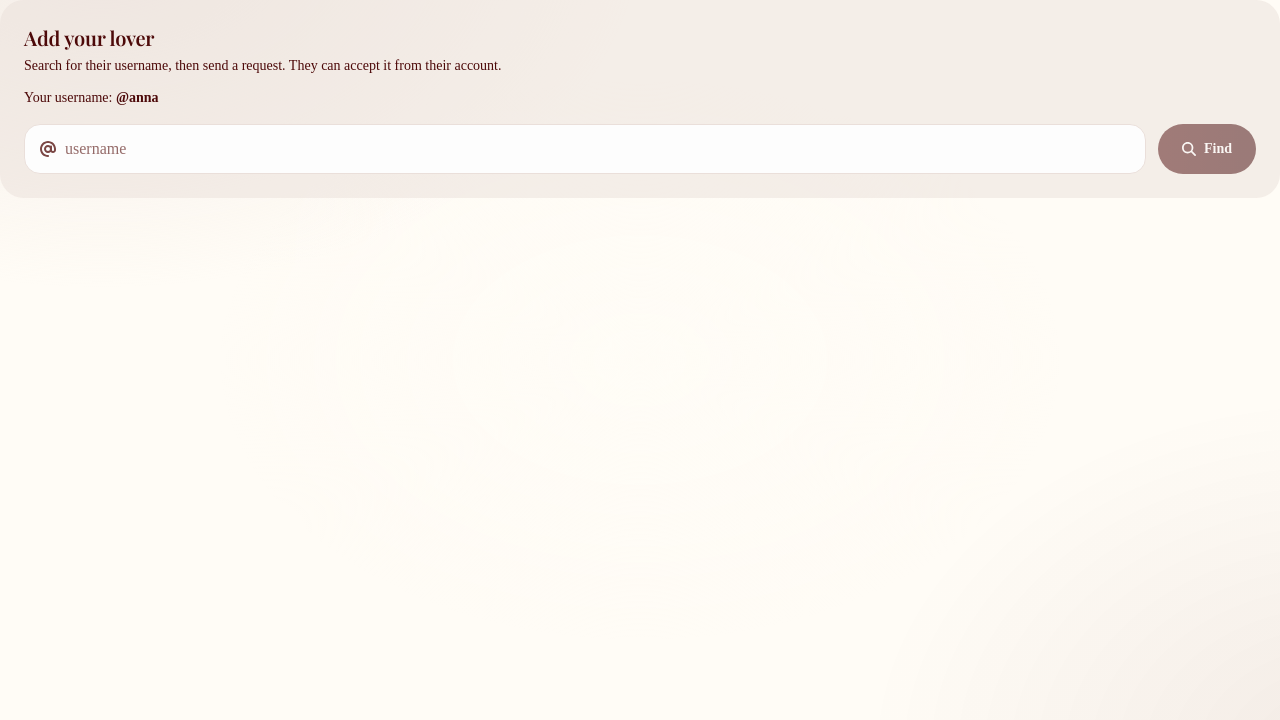
Test case: Add your lover › says so when no one has the username
Step 1. Type "nobody" into the field named "Their username" → (585, 149), box [24, 124, 1146, 174]
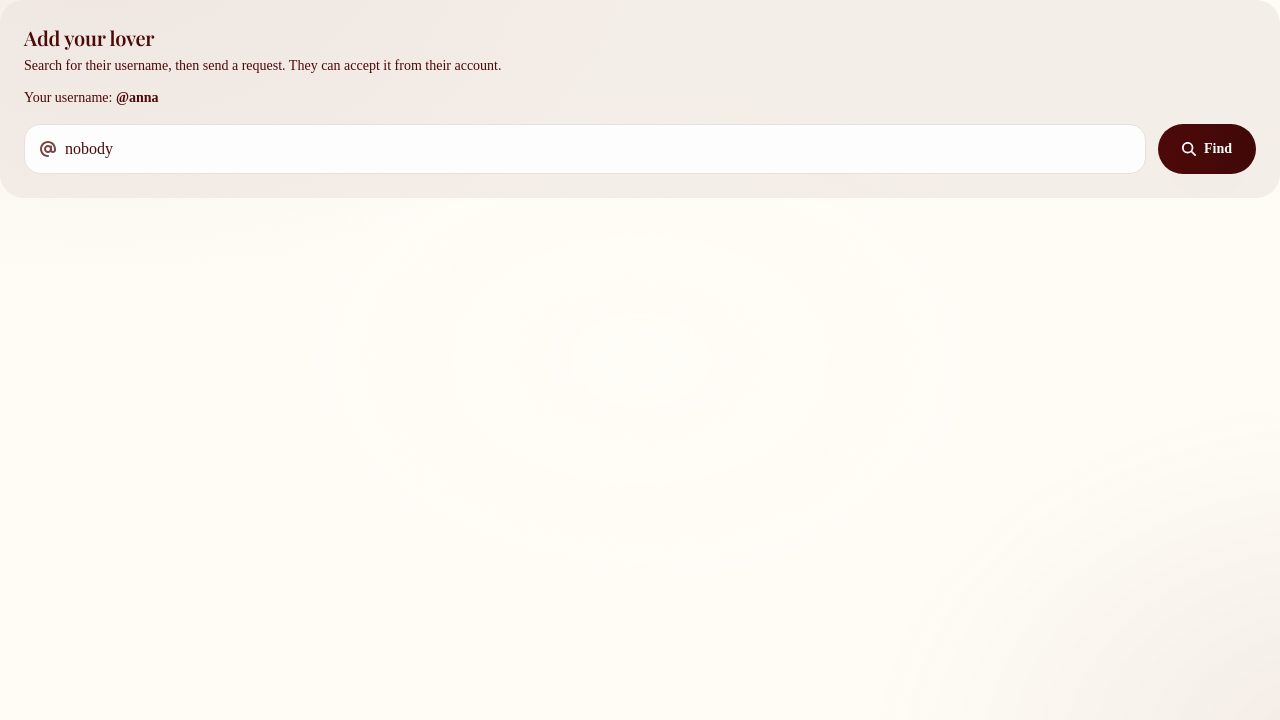
Step 2. Click the button "Find" → (1207, 149), box [1158, 124, 1256, 174]
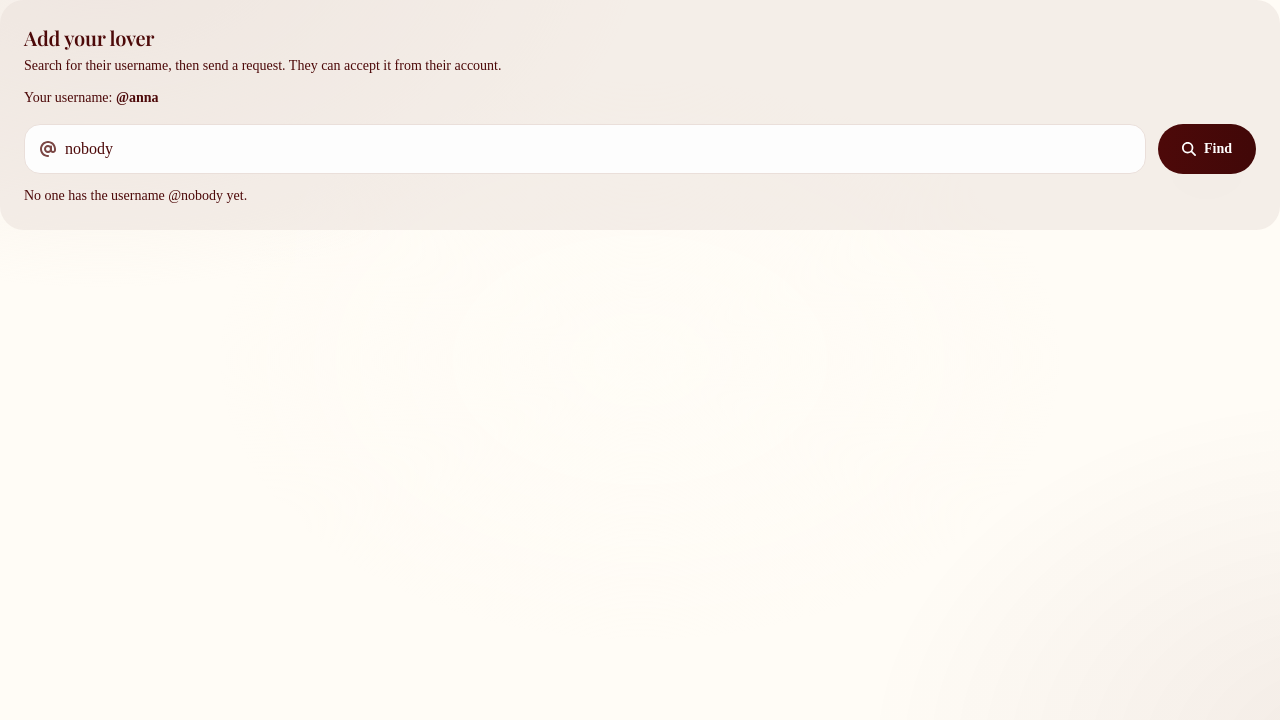
Now the text "No one has the username @nobody yet." is shown, box [24, 188, 247, 203]
